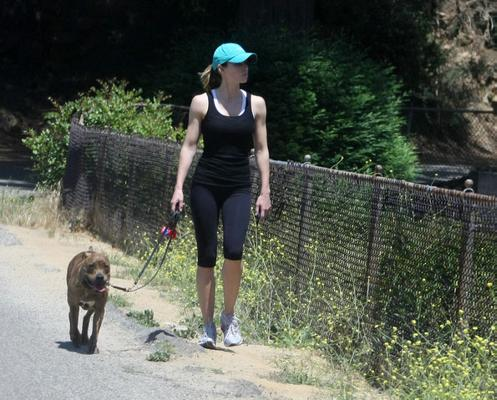person: (170, 43, 273, 347)
